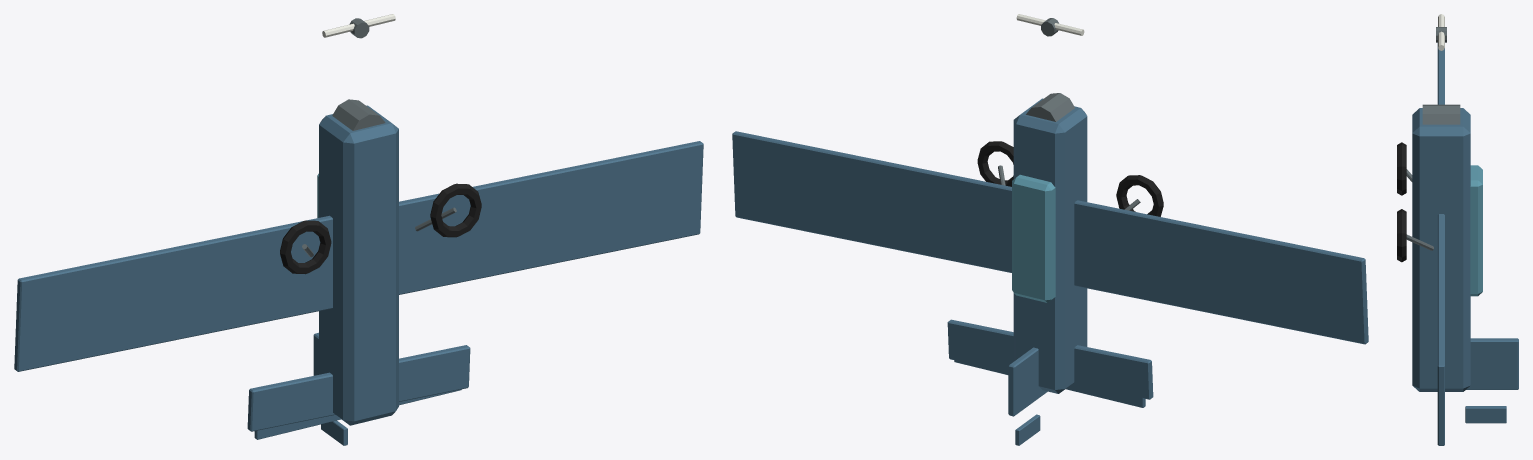
3 renders of one model, left to right at view 1: azimuth 30°, elevation 25°; view 2: azimuth 150°, elevation 25°; view 3: azimuth 270°, elevation 25°, orthographic. The views are drawn at different scales.
Visible parts, largest first — view 1: main_wing.026, fuselage.021, horizontal_tail.026, wheel_0.021, wheel_1.021, engine_mount_0.026, elevator.026; view 2: main_wing.026, fuselage.021, horizontal_tail.026, canopy.021, aileron_L.026, aileron_R.026, elevator.026, vertical_tail.026, wheel_0.021, engine_mount_0.026, wheel_1.021; view 3: fuselage.021, vertical_tail.026, main_wing.026, canopy.021, engine_mount_0.026, rudder.026, wheel_0.021, wheel_1.021, prop_blade.081, landing_strut_1.021.
Boxes of the visible parts, x1,y1,x2,y2 form: main_wing.026: [14, 141, 703, 371]; fuselage.021: [319, 105, 398, 425]; horizontal_tail.026: [247, 345, 470, 431]; wheel_0.021: [280, 220, 331, 274]; wheel_1.021: [430, 183, 481, 237]; engine_mount_0.026: [332, 99, 385, 130]; elevator.026: [254, 389, 461, 439]; main_wing.026: [732, 131, 1368, 344]; fuselage.021: [1013, 98, 1087, 393]; horizontal_tail.026: [947, 319, 1153, 399]; canopy.021: [1012, 174, 1055, 302]; aileron_L.026: [1194, 270, 1357, 333]; aileron_R.026: [739, 159, 902, 222]; elevator.026: [954, 341, 1145, 407]; vertical_tail.026: [1008, 347, 1047, 416]; wheel_0.021: [1116, 175, 1163, 216]; engine_mount_0.026: [1026, 93, 1074, 121]; wheel_1.021: [977, 141, 1013, 186]; fuselage.021: [1412, 108, 1470, 391]; vertical_tail.026: [1466, 338, 1518, 389]; main_wing.026: [1437, 43, 1444, 445]; canopy.021: [1470, 165, 1482, 296]; engine_mount_0.026: [1422, 104, 1460, 124]; rudder.026: [1465, 406, 1506, 423]; wheel_0.021: [1397, 142, 1406, 195]; wheel_1.021: [1397, 209, 1406, 262]; prop_blade.081: [1438, 14, 1444, 50]; landing_strut_1.021: [1406, 234, 1433, 250].
Bounding box in the file's own units: 11.8 × 7.14 × 2.
